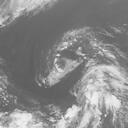cyclone: (35, 27, 113, 114)
